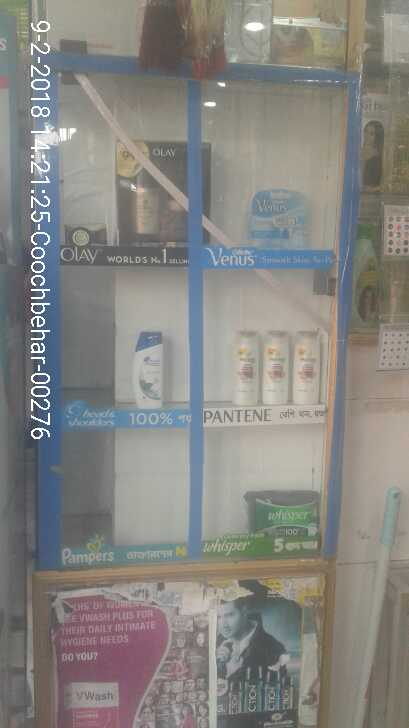venus: (247, 187, 307, 247)
